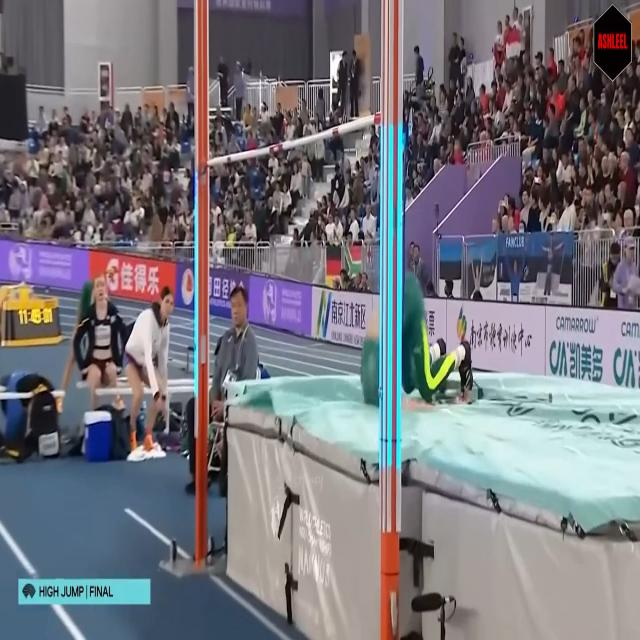land: (359, 264, 473, 405)
